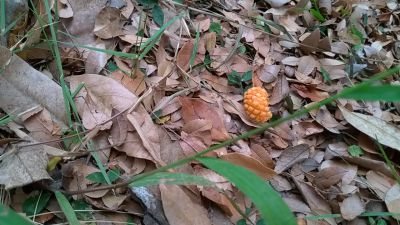eggs: (241, 84, 276, 126)
